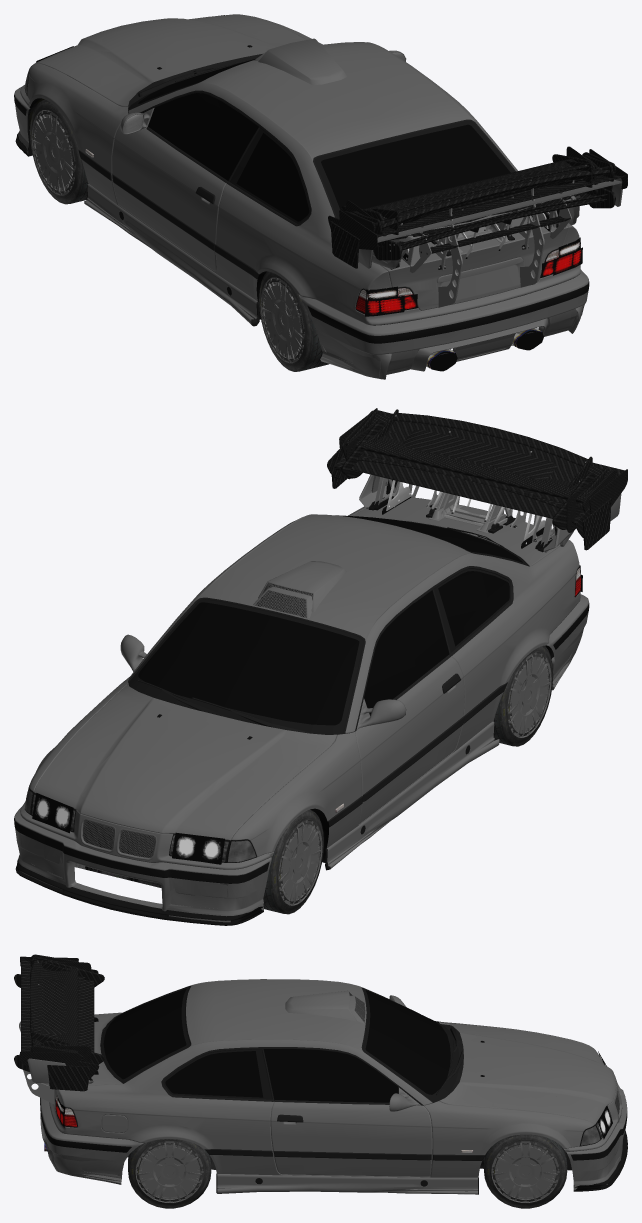
The picture shows the model from 3 angles, top to bottom: view 1: azimuth 30°, elevation 25°; view 2: azimuth 150°, elevation 25°; view 3: azimuth 270°, elevation 25°; orthographic projection. The views are drawn at different scales.
Parts seen in each view (by area): view 1: BMW, RearBumper_001, Hood, Hood2, RearBumper, Spoiler3, Spoiler7, Spoiler5, Hood1, SideSKirt2, Spoiler9, Spoiler10 (+17 smaller); view 2: BMW, Hood, FrontBumper, Hood2, Hood1, Spoiler6, Spoiler9, Spoiler7, Spoiler10, SideSKirt2, Spoiler3, Lights_Head (+14 smaller); view 3: BMW, Hood, Hood2, Hood1, SideSKirt2, RearBumper_001, W1_003, W1_002, SideSKirt, FrontBumper, Spoiler7, Spoiler6 (+18 smaller).
Boxes of the visible parts, x1=… form: BMW: x1=20, y1=14, x2=580, y2=325; RearBumper_001: x1=299, y1=270, x2=589, y2=375; Hood: x1=36, y1=15, x2=306, y2=105; Hood2: x1=42, y1=15, x2=305, y2=106; RearBumper: x1=300, y1=276, x2=589, y2=364; Spoiler3: x1=339, y1=149, x2=627, y2=272; Spoiler7: x1=372, y1=161, x2=592, y2=307; Spoiler5: x1=373, y1=188, x2=615, y2=270; Hood1: x1=37, y1=14, x2=300, y2=106; SideSKirt2: x1=84, y1=184, x2=259, y2=326; Spoiler9: x1=343, y1=152, x2=615, y2=253; Spoiler10: x1=352, y1=155, x2=613, y2=237; BMW: x1=20, y1=497, x2=580, y2=887; Hood: x1=34, y1=684, x2=332, y2=840; FrontBumper: x1=14, y1=807, x2=271, y2=920; Hood2: x1=48, y1=684, x2=335, y2=831; Hood1: x1=34, y1=684, x2=337, y2=840; Spoiler6: x1=341, y1=420, x2=595, y2=548; Spoiler9: x1=341, y1=410, x2=615, y2=532; Spoiler7: x1=371, y1=409, x2=592, y2=525; Spoiler10: x1=349, y1=411, x2=609, y2=543; SideSKirt2: x1=325, y1=721, x2=499, y2=870; Spoiler3: x1=339, y1=408, x2=627, y2=542; Lights_Head: x1=32, y1=793, x2=224, y2=864; BMW: x1=49, y1=979, x2=622, y2=1177; Hood: x1=439, y1=1021, x2=616, y2=1124; Hood2: x1=440, y1=1023, x2=612, y2=1116; Hood1: x1=440, y1=1023, x2=616, y2=1123; SideSKirt2: x1=216, y1=1174, x2=478, y2=1194; RearBumper_001: x1=40, y1=1083, x2=143, y2=1181; W1_003: x1=484, y1=1136, x2=567, y2=1203; W1_002: x1=128, y1=1139, x2=211, y2=1204; SideSKirt: x1=216, y1=1173, x2=478, y2=1191; FrontBumper: x1=566, y1=1084, x2=627, y2=1187; Spoiler7: x1=19, y1=958, x2=71, y2=1104; Spoiler6: x1=41, y1=960, x2=104, y2=1074.
Size of the model in its own units: 1.51 by 1.12 by 3.65.
